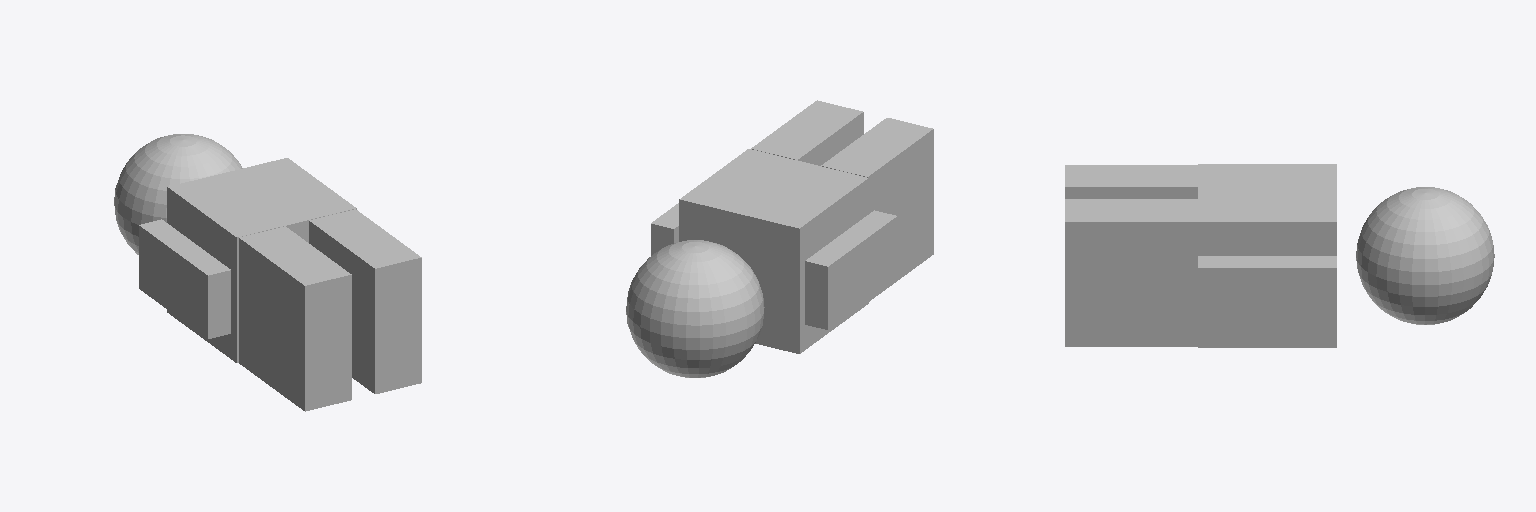
File: rocky_robot_animation_000008.obj
3 views of the same model, side by side, from view 1: azimuth 30°, elevation 25°; view 2: azimuth 150°, elevation 25°; view 3: azimuth 270°, elevation 25° (orthographic).
Visible parts, largest first — view 1: Cube.001_Cube.005, Cube.002, Cube, Cube.004, Sphere.001; view 2: Cube, Sphere.001, Cube.001_Cube.005, Cube.004, Cube.002, Cube.003; view 3: Cube.002, Cube, Sphere.001, Cube.003, Cube.001_Cube.005.
Boxes of the visible parts, x1=… form: Cube.001_Cube.005: x1=239, y1=226, x2=351, y2=411; Cube.002: x1=309, y1=209, x2=421, y2=393; Cube: x1=167, y1=158, x2=356, y2=362; Cube.004: x1=139, y1=219, x2=230, y2=338; Sphere.001: x1=114, y1=134, x2=242, y2=254; Cube: x1=679, y1=149, x2=868, y2=353; Sphere.001: x1=626, y1=240, x2=764, y2=377; Cube.001_Cube.005: x1=821, y1=118, x2=933, y2=301; Cube.004: x1=805, y1=210, x2=897, y2=329; Cube.002: x1=751, y1=100, x2=863, y2=165; Cube.003: x1=651, y1=203, x2=678, y2=255; Cube.002: x1=1065, y1=199, x2=1197, y2=346; Cube: x1=1198, y1=164, x2=1336, y2=347; Sphere.001: x1=1356, y1=187, x2=1494, y2=324; Cube.003: x1=1198, y1=256, x2=1336, y2=330; Cube.001_Cube.005: x1=1065, y1=165, x2=1197, y2=198.
Size of the model in its own units: 0.76 by 0.514 by 1.59.